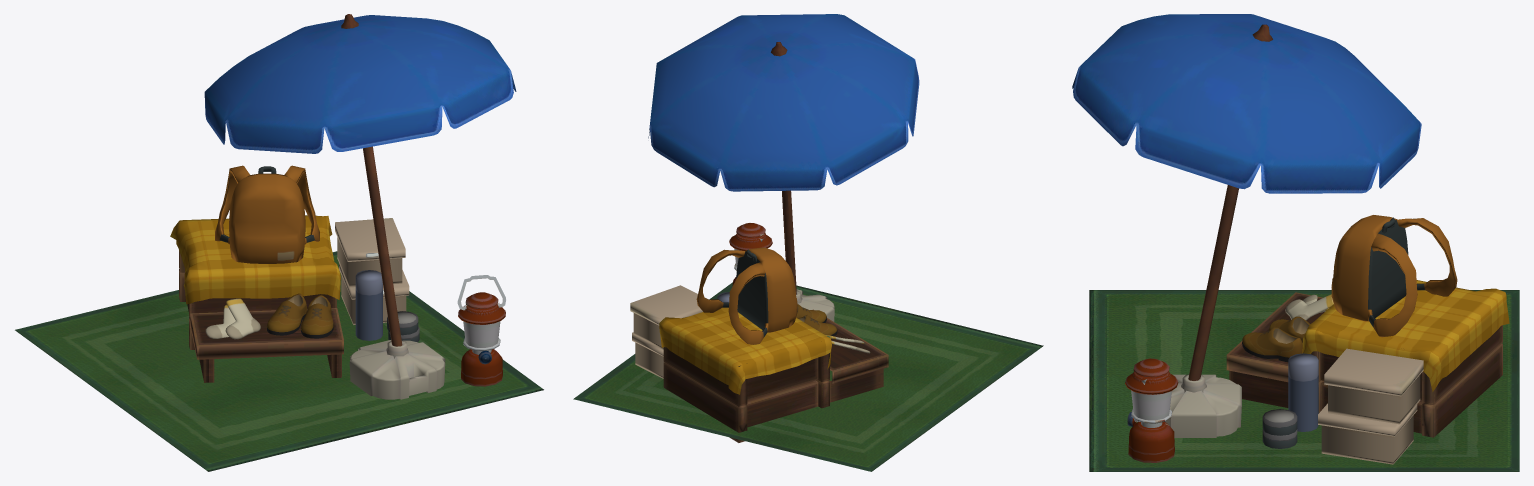
The model's file is EvtobjStallSkk.glb.
3 renders of one model, left to right at view 1: azimuth 30°, elevation 25°; view 2: azimuth 150°, elevation 25°; view 3: azimuth 270°, elevation 25°, orthographic. The views are drawn at different scales.
Parts seen in each view (by area): view 1: Carpet_Low2__mCarpet, Base__mNoRain, Dummy_low__mNoRain; view 2: Carpet_Low2__mCarpet, Base__mNoRain, Dummy_low__mNoRain; view 3: Carpet_Low2__mCarpet, Base__mNoRain, Dummy_low__mNoRain.
Part boxes in pixels (box(x1,y1,x2,y2)): Carpet_Low2__mCarpet: box(15, 14, 543, 471); Base__mNoRain: box(170, 146, 505, 399); Dummy_low__mNoRain: box(205, 165, 333, 339); Carpet_Low2__mCarpet: box(573, 14, 1043, 471); Base__mNoRain: box(630, 190, 888, 442); Dummy_low__mNoRain: box(696, 247, 870, 353); Carpet_Low2__mCarpet: box(1072, 14, 1519, 471); Base__mNoRain: box(1125, 185, 1509, 464); Dummy_low__mNoRain: box(1242, 215, 1457, 362).
Size of the model in its own units: 21.45 by 20.34 by 20.79.
2 materials, 2 textured.
